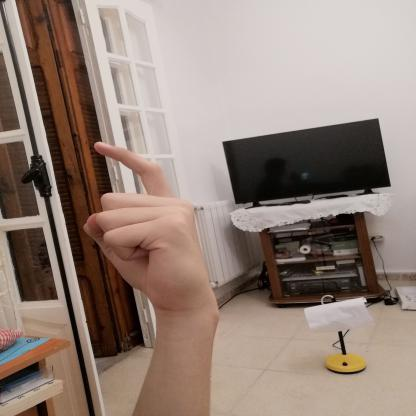RAA: (69, 134, 226, 315)
